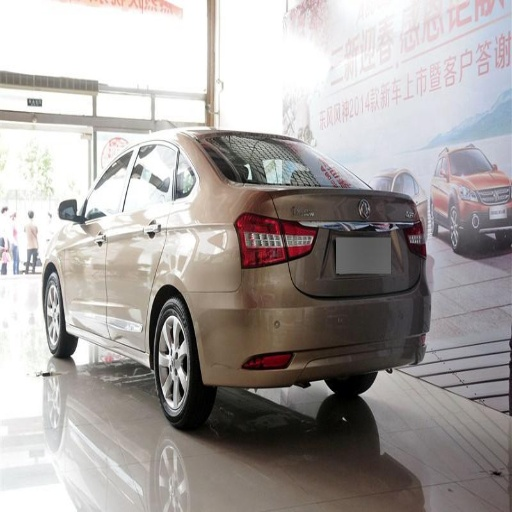back_bumper: (191, 264, 430, 389)
back_glass: (199, 132, 352, 185)
back_left_door: (108, 138, 179, 346)
